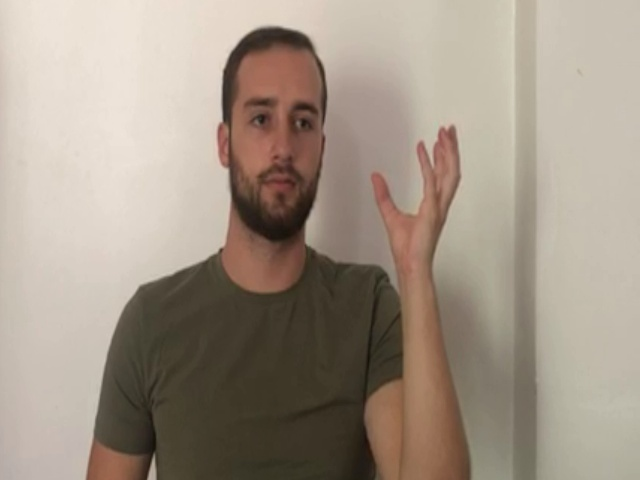Sonce: (364, 122, 466, 283)
